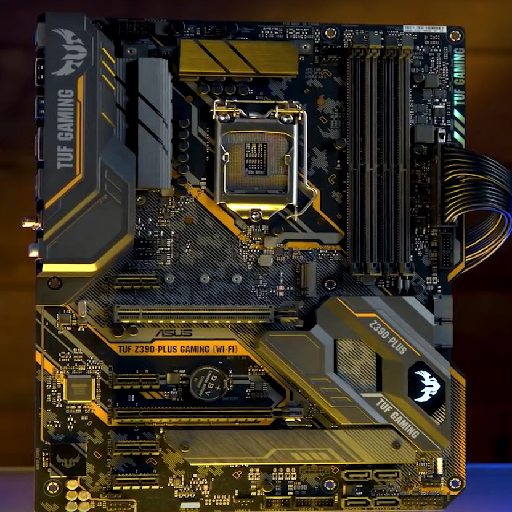CPU: (214, 108, 299, 220)
GPU: (113, 301, 304, 328), (114, 401, 309, 427)
MOTHERBOARD: (33, 11, 472, 512)
RAM: (347, 33, 415, 281)
SSD: (297, 262, 317, 299)
